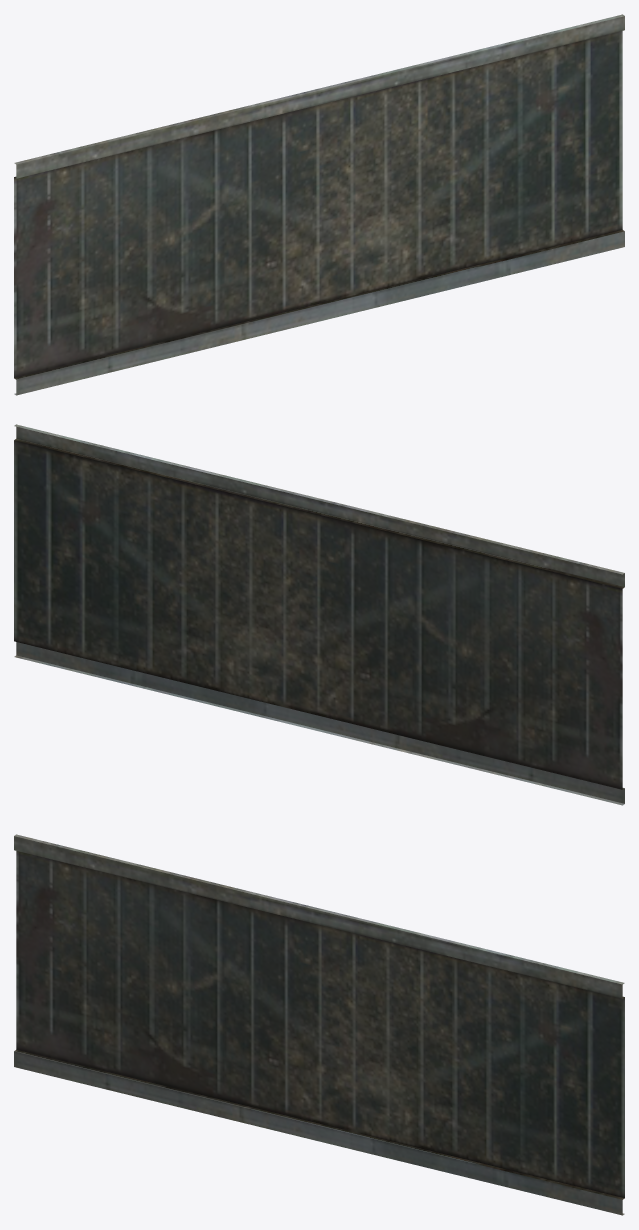
The model's file is L_Window.FBX.
3 renders of one model, top to bottom at view 1: azimuth 30°, elevation 25°; view 2: azimuth 150°, elevation 25°; view 3: azimuth 330°, elevation 25°, orthographic.
Parts seen in each view (by area): view 1: L_Window; view 2: L_Window; view 3: L_Window.
Boxes of the visible parts, box(x1,y1,x2,y2) form: L_Window: box(14, 14, 624, 395); L_Window: box(14, 424, 624, 805); L_Window: box(14, 834, 624, 1215).
Size of the model in its own units: 560 by 203 by 3.58.
